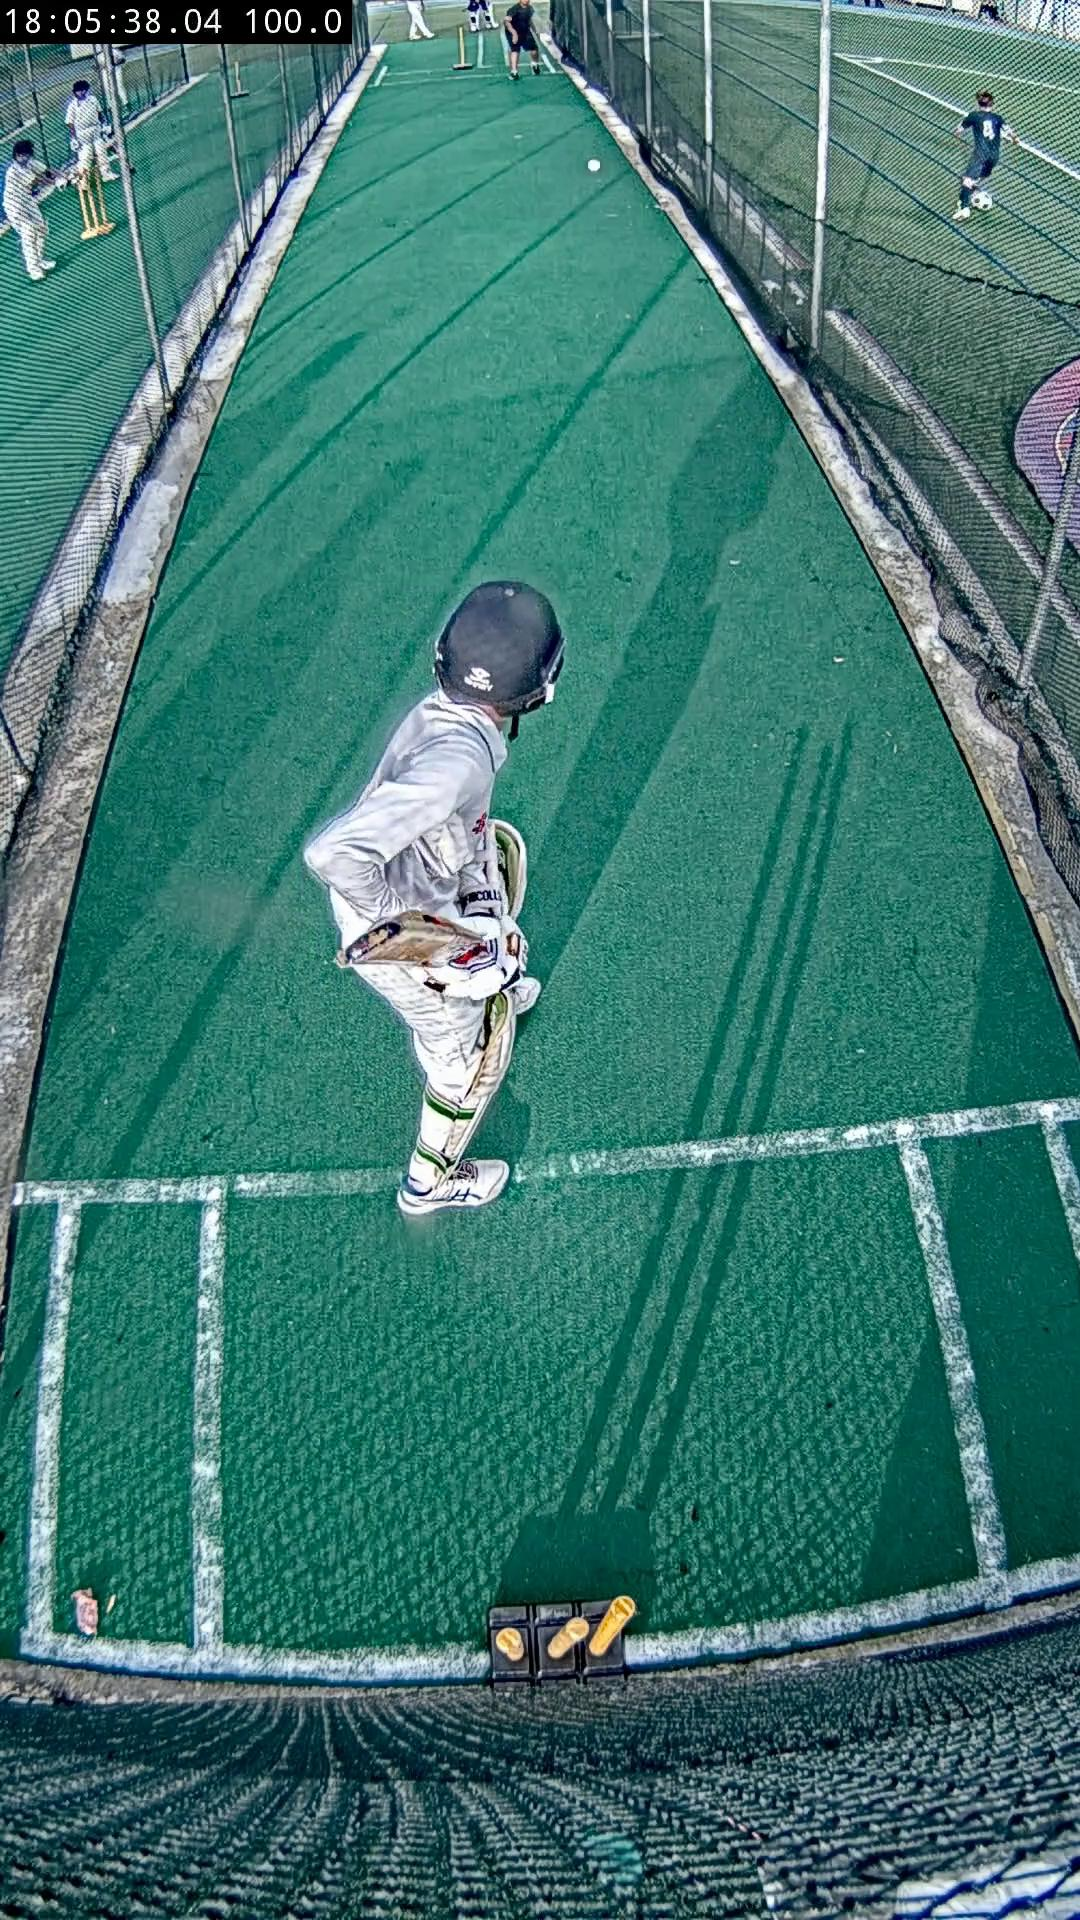ball: (588, 157, 600, 170)
bat: (338, 923, 484, 982)
gloves: (419, 926, 525, 1001)
helmet: (431, 582, 563, 716)
pads: (450, 990, 514, 1159), (488, 818, 529, 919)
stumps: (488, 1594, 637, 1684)
